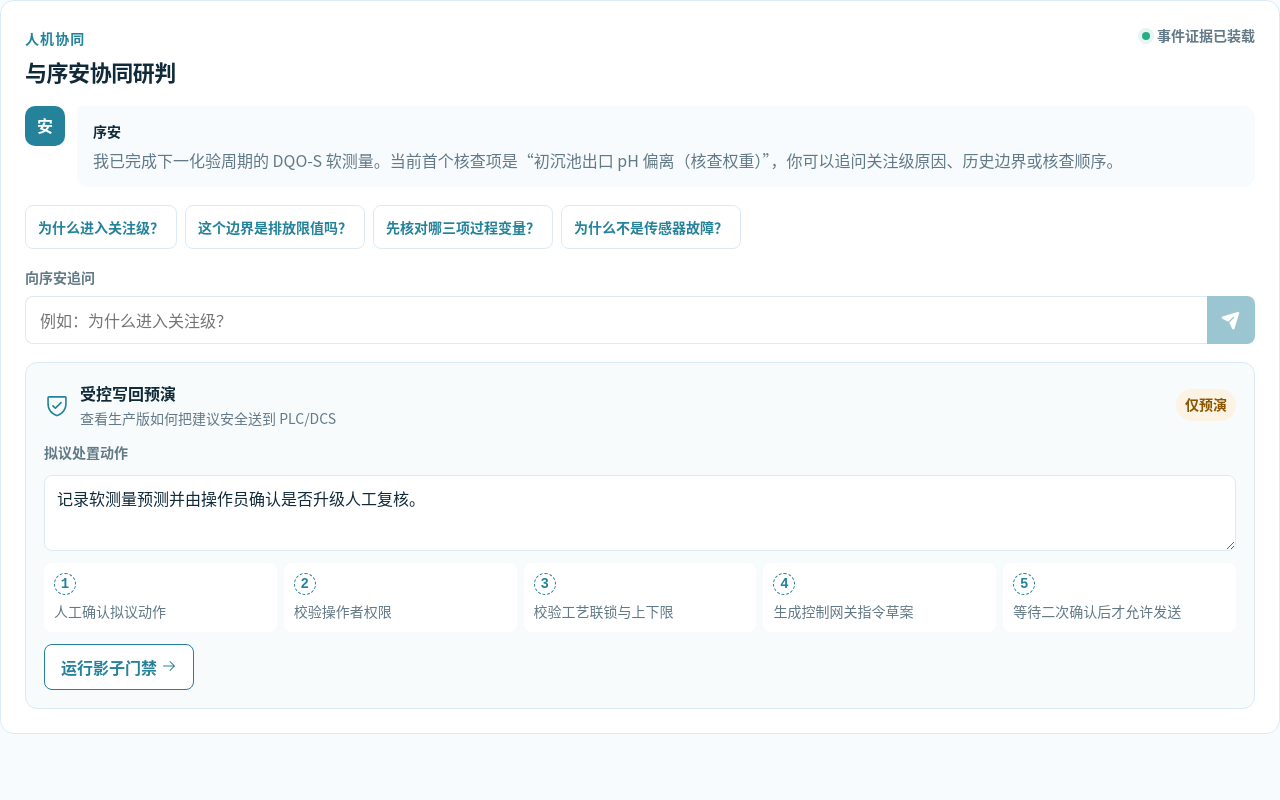
事件协同研判在线 AI › 网络请求失败时不把 token 渲染到事件协同面板
The width and height of the screenshot is (1280, 800).
Click the button "为什么不是传感器故障？": [651, 227] box [561,205,741,249]
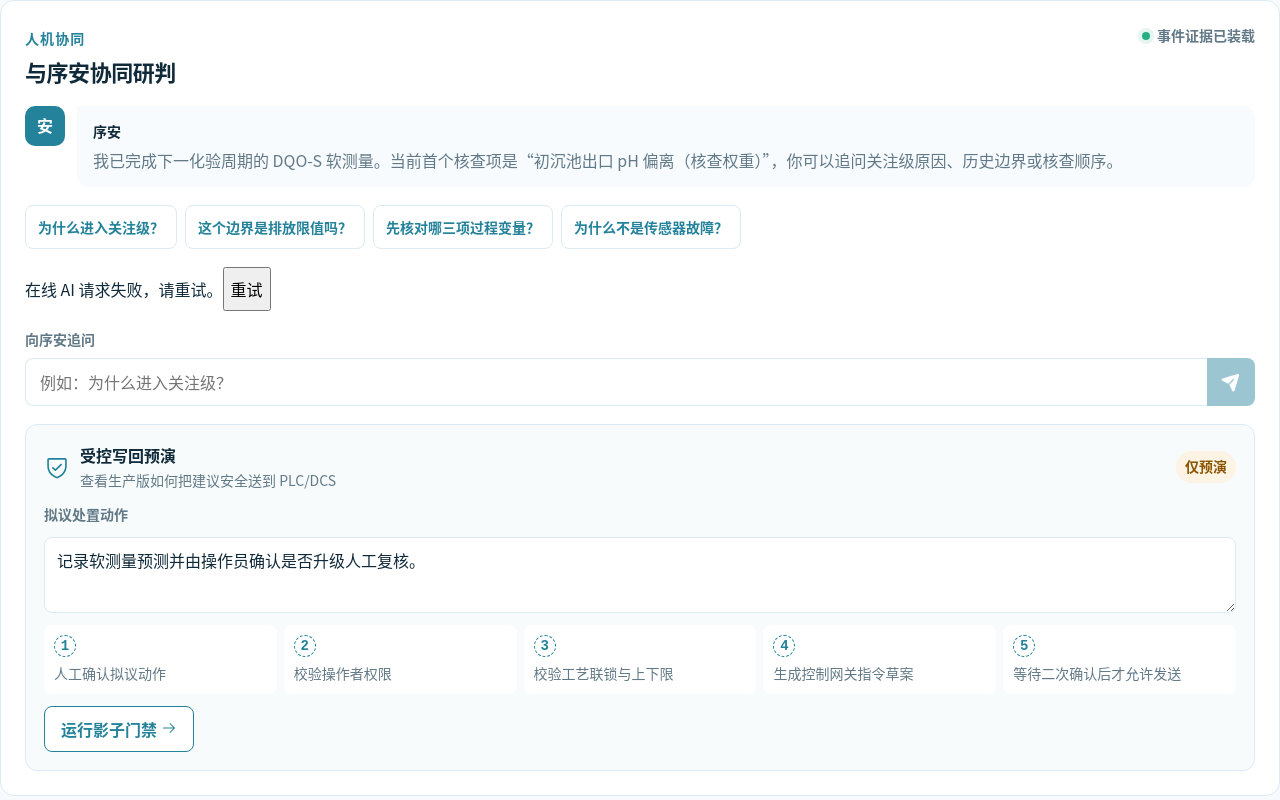
Now the text "在线 AI 请求失败，请重试。" is shown, box [25,277,223,301]
